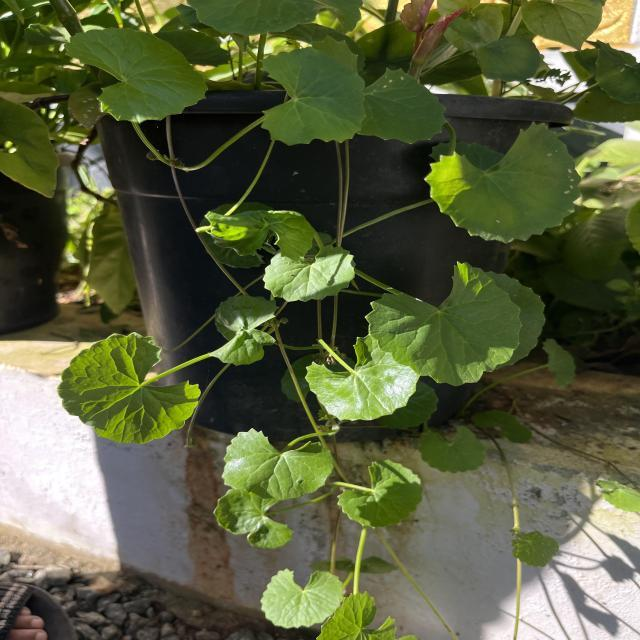Centella asiatica: (362, 259, 524, 388), (420, 119, 584, 246), (54, 329, 204, 446), (61, 26, 210, 125), (256, 45, 368, 147), (302, 333, 421, 423), (220, 426, 337, 502), (354, 65, 449, 146), (334, 456, 426, 530), (260, 242, 358, 304)
